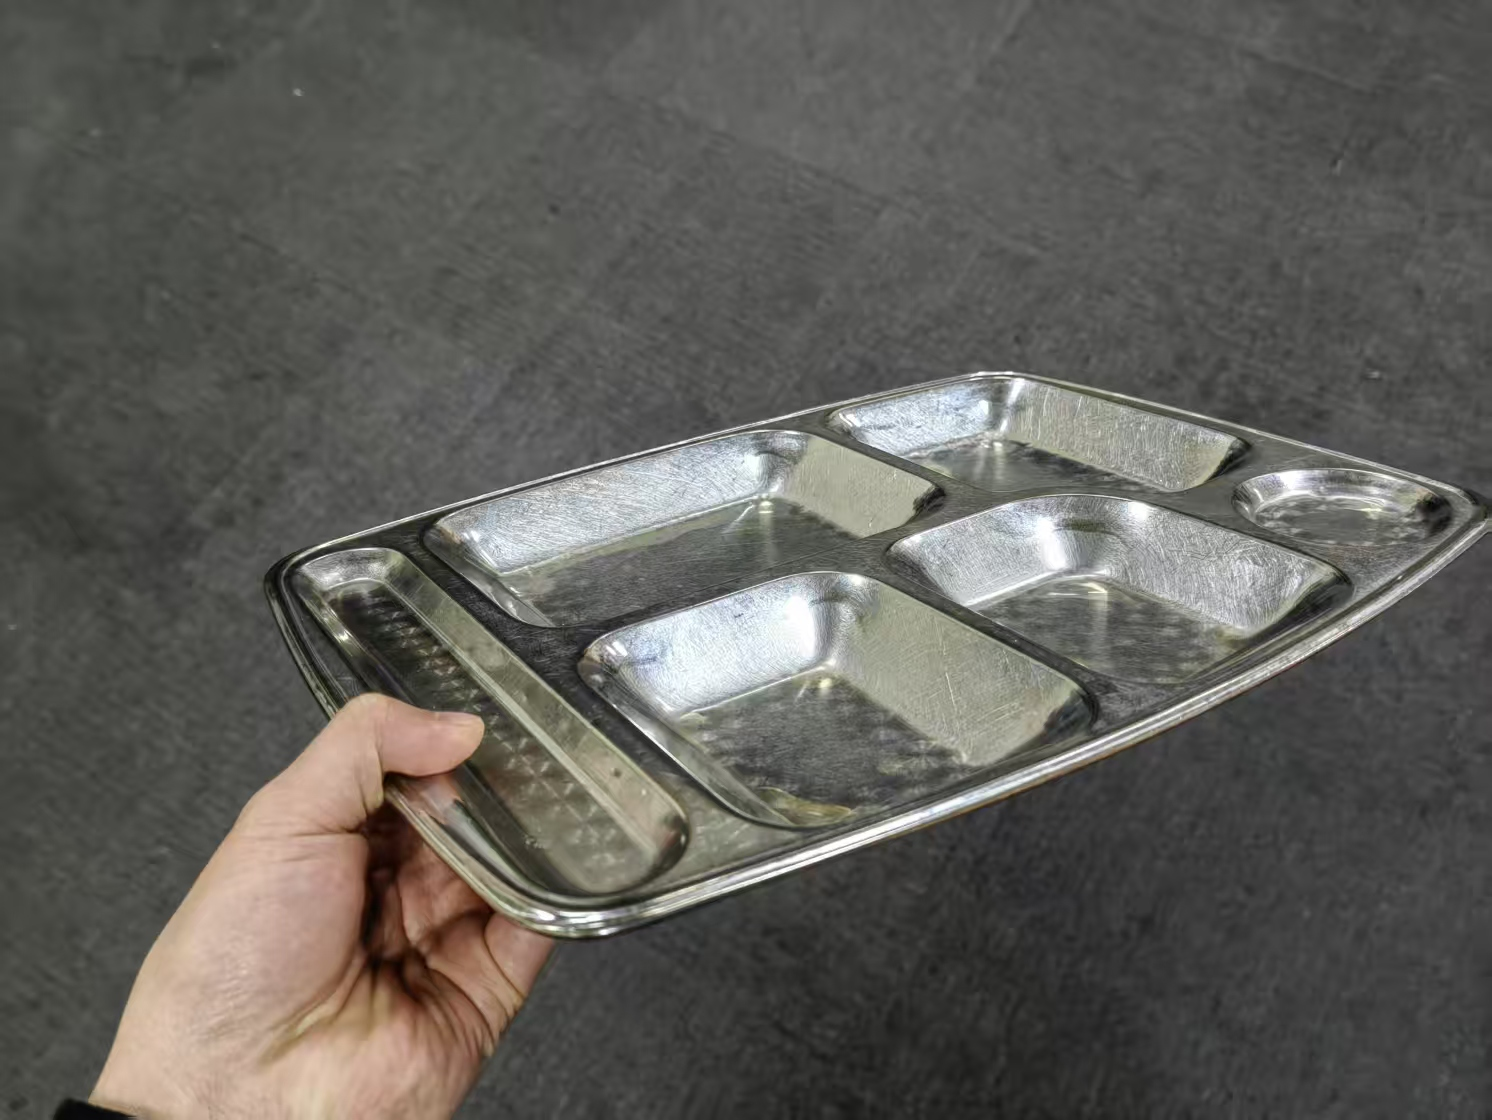plate: (260, 363, 1492, 939)
